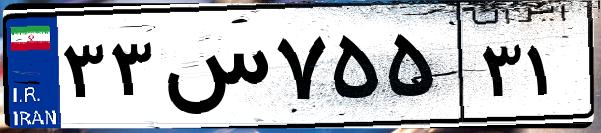1: (525, 38, 570, 115)
3: (57, 26, 110, 100), (475, 38, 525, 113), (110, 28, 158, 98)
5: (385, 28, 445, 110), (330, 28, 385, 110)
7: (270, 28, 330, 110)
س: (158, 20, 270, 120)
